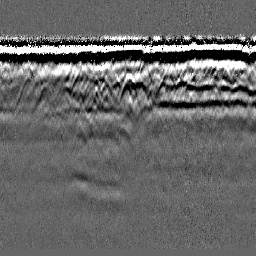cavity: (118, 72, 138, 102)
